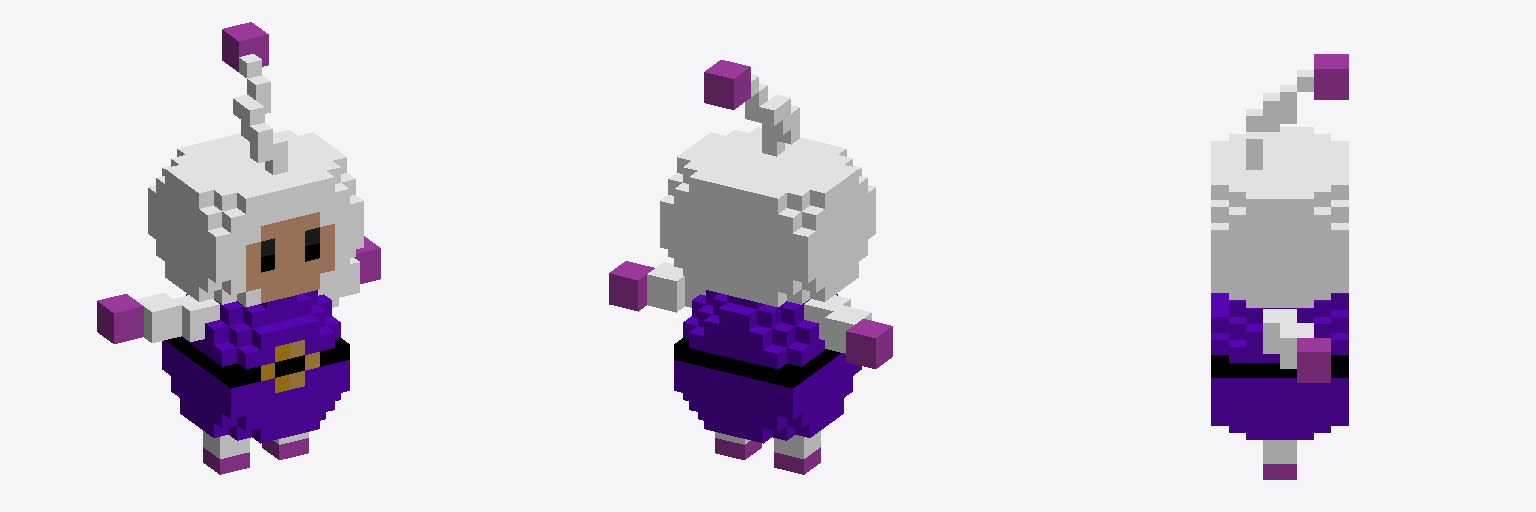
3 renders of one model, left to right at view 1: azimuth 30°, elevation 25°; view 2: azimuth 150°, elevation 25°; view 3: azimuth 270°, elevation 25°, orthographic.
Visible parts, largest first — view 1: bboi_run2; view 2: bboi_run2; view 3: bboi_run2.
Part boxes in pixels (x1,y1,x2,y2): bboi_run2: (97, 22, 380, 474); bboi_run2: (609, 60, 892, 474); bboi_run2: (1211, 54, 1348, 479).
Size of the model in its own units: 18 by 26 by 8.
1 materials, 1 textured.